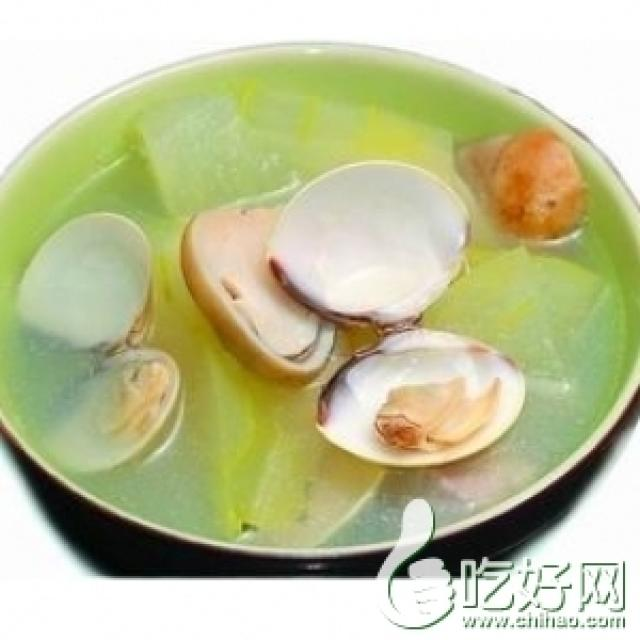汤锅炖物: (17, 45, 610, 576)
